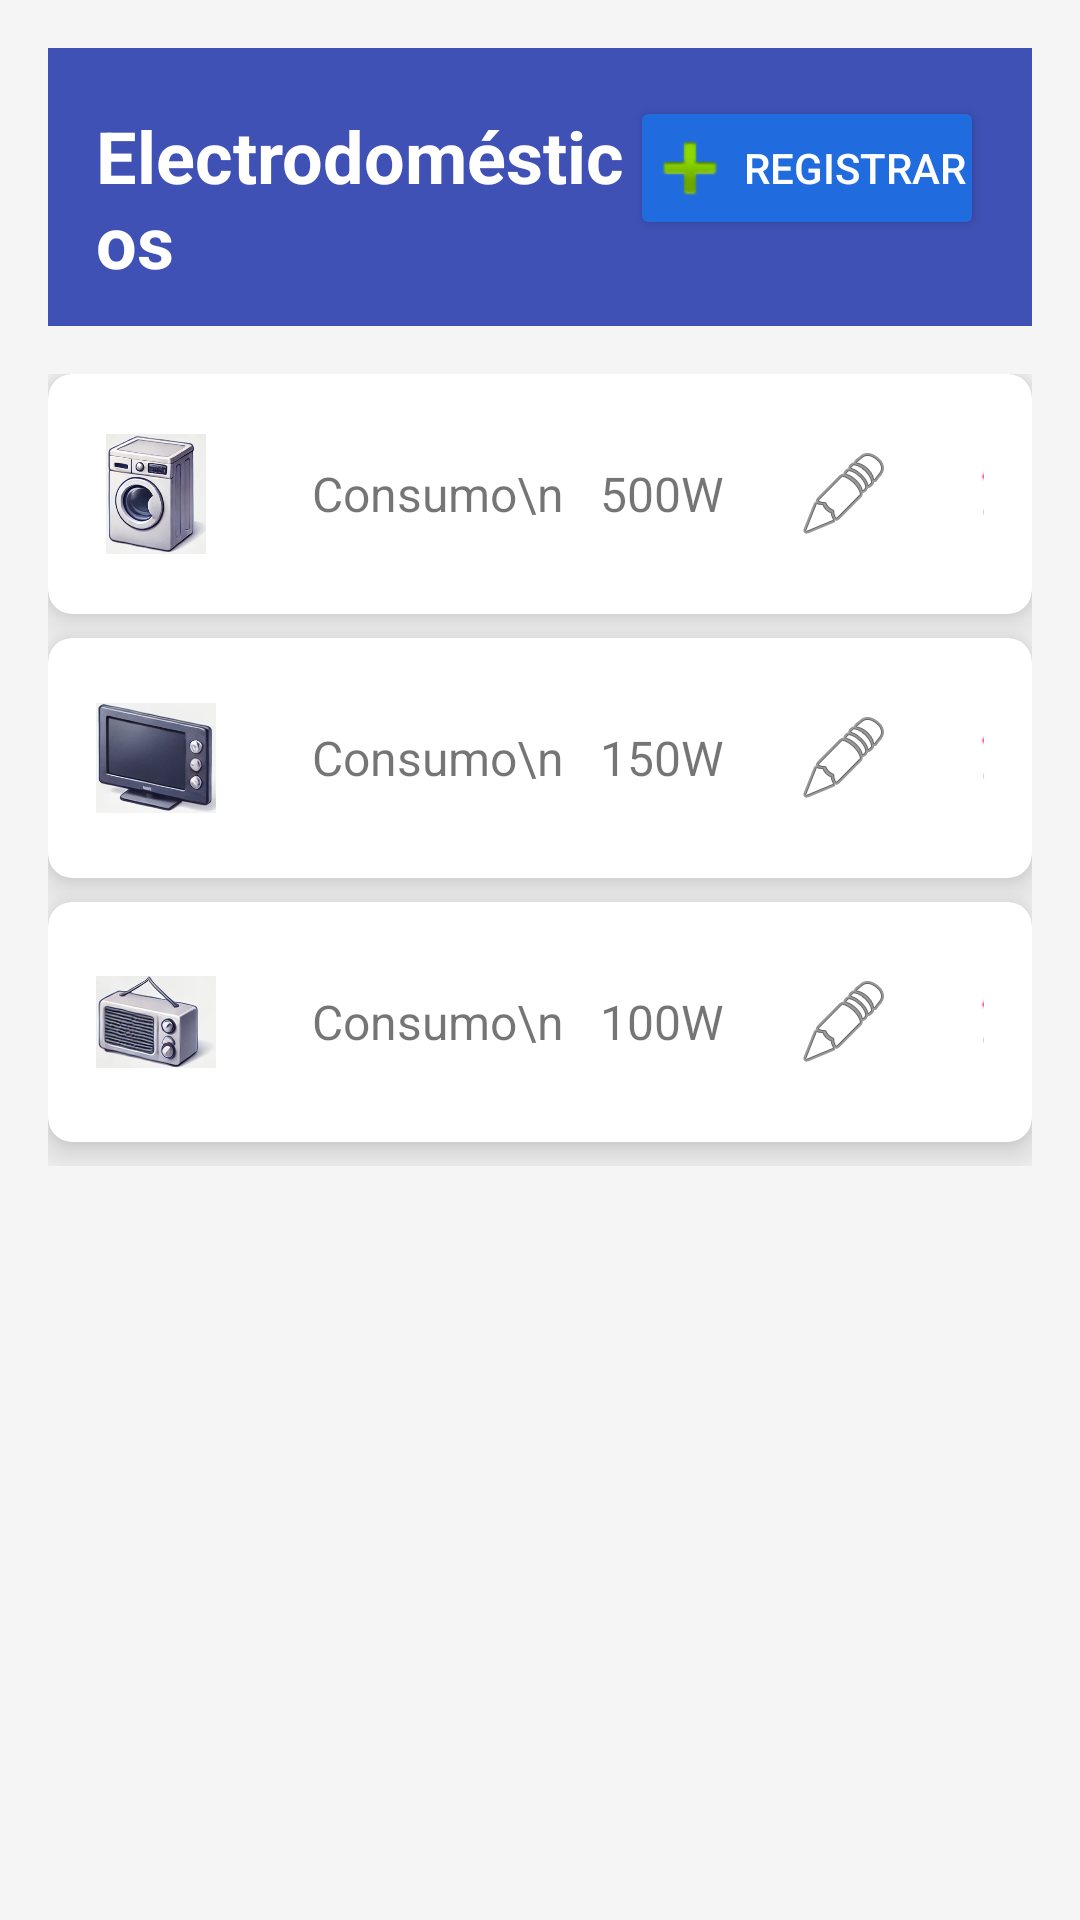

Screen size 1080×1920. Icon name, then its center in pixels as [x,y]:
Editar: [843,493], [843,757], [843,1021]
lavarropa: [157,494]
radio: [155,1021]
televisor: [157,757]
